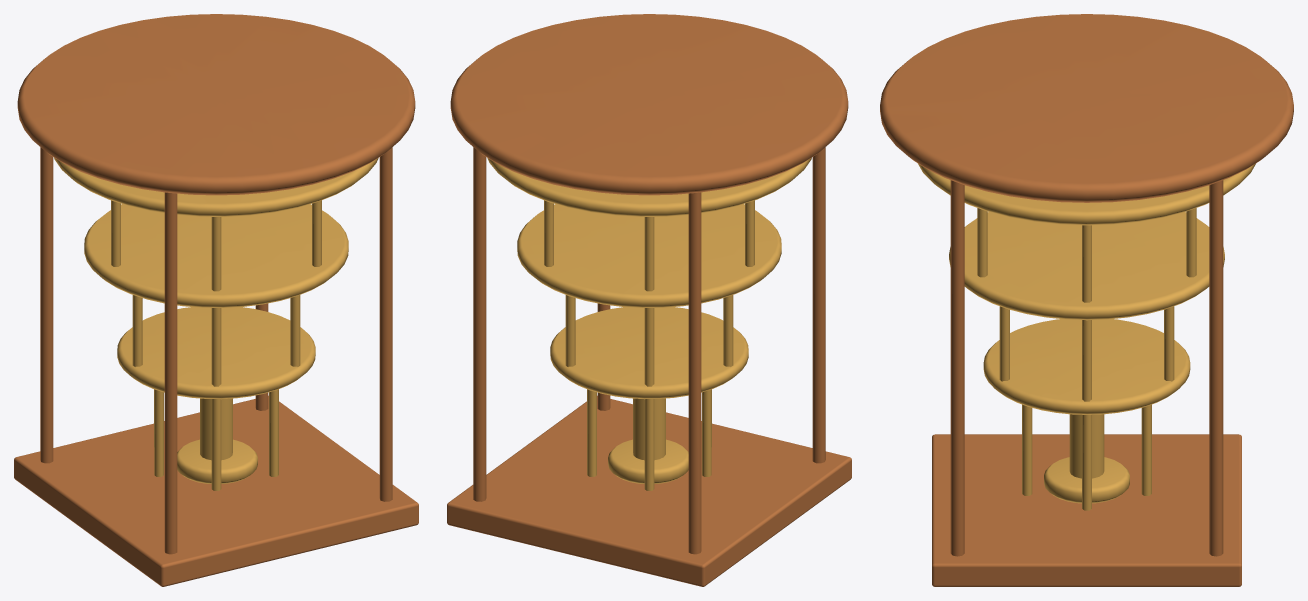
The picture shows the model from 3 angles, left to right: view 1: azimuth 30°, elevation 25°; view 2: azimuth 150°, elevation 25°; view 3: azimuth 270°, elevation 25°; orthographic projection. The views are drawn at different scales.
Bounding box in the file's own units: 0.48 × 0.5425 × 0.48.
